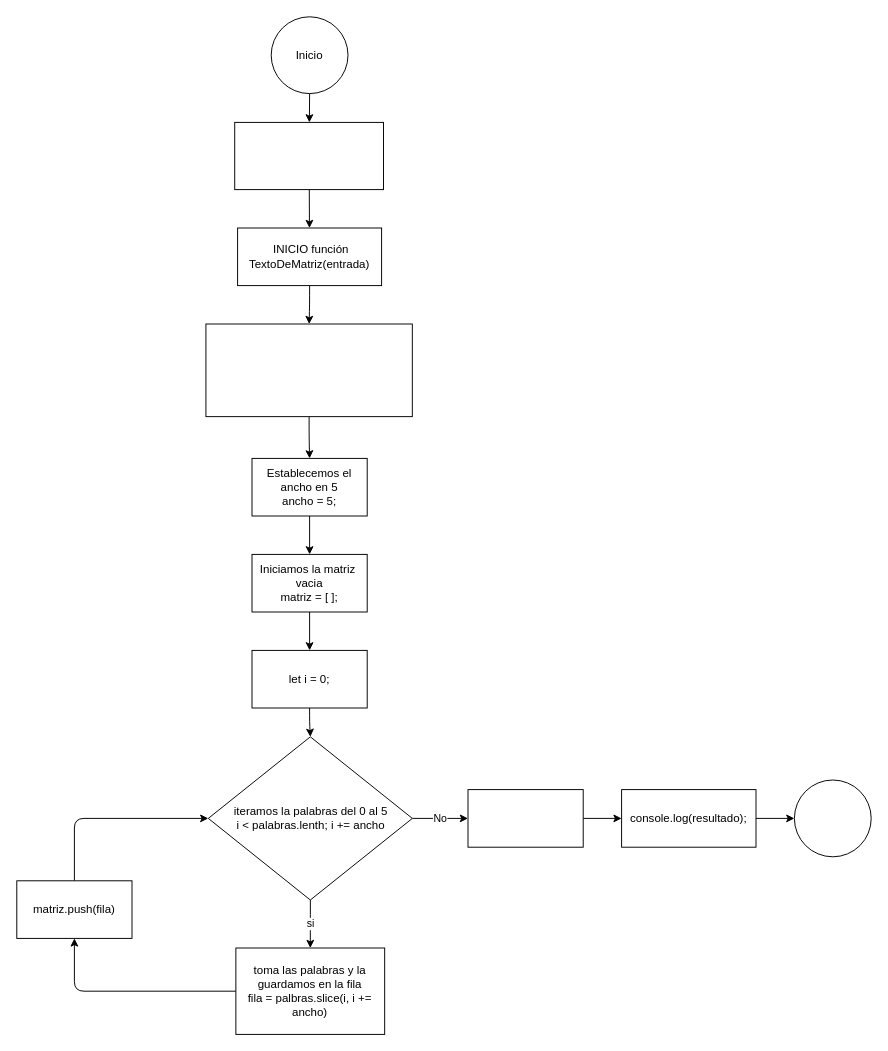
Image size: 888x1051. Some labels were removed from this diagram. The centre of each missing label's shape, as x and y in pixels:
"Dividimos la cadena en palabras separadas palabras = entrada.split(/\s+/)" belongs at [308,370].
"Fin" belongs at [832,818].
"imprimimos la matriz return matriz;" belongs at [525,818].
"Introducimos el texto entrada = readline.question(...)" belongs at [309,155].
